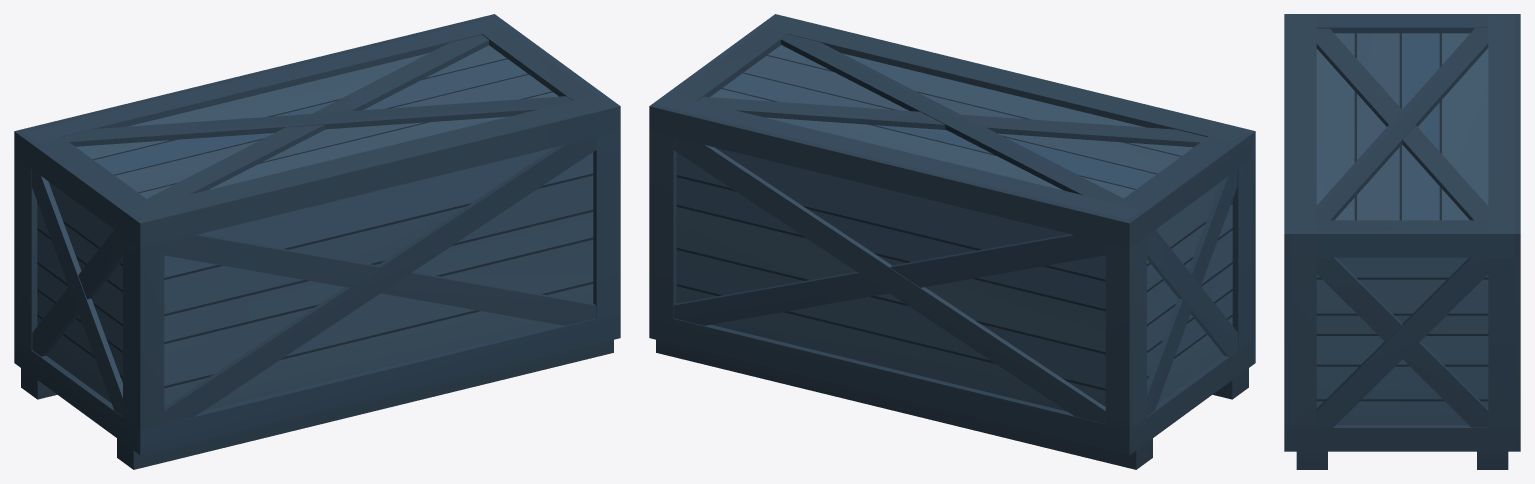
File: crate.factory_long.export_blue.glb
The picture shows the model from 3 angles, left to right: view 1: azimuth 30°, elevation 25°; view 2: azimuth 150°, elevation 25°; view 3: azimuth 270°, elevation 25°; orthographic projection. The views are drawn at different scales.
Parts seen in each view (by area): view 1: crate_factory_long_export_blue; view 2: crate_factory_long_export_blue; view 3: crate_factory_long_export_blue.
Part boxes in pixels (x1=…): crate_factory_long_export_blue: x1=14, y1=14, x2=620, y2=469; crate_factory_long_export_blue: x1=649, y1=14, x2=1255, y2=469; crate_factory_long_export_blue: x1=1284, y1=14, x2=1520, y2=469.
Size of what is drawn, in the model's own units: 1.8 by 0.9 by 0.818.
